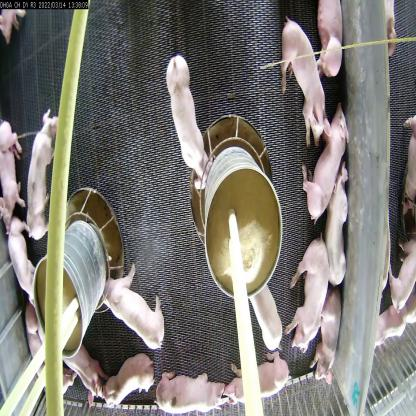Pig: (161, 51, 211, 179), (278, 17, 325, 143), (104, 267, 170, 350), (23, 105, 62, 241), (284, 242, 329, 352), (304, 106, 345, 220), (99, 344, 160, 415), (223, 355, 295, 415), (324, 154, 356, 286), (154, 370, 229, 415), (309, 296, 343, 390), (0, 101, 27, 218), (246, 277, 287, 354), (64, 342, 108, 411), (314, 0, 344, 91), (3, 218, 28, 308)
